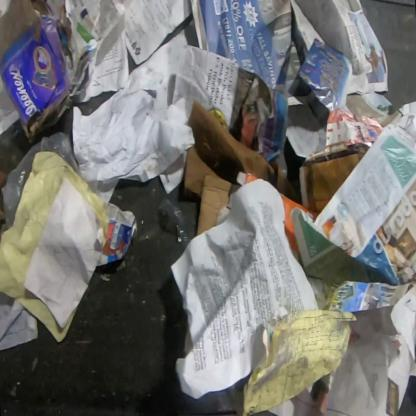cardboard: (183, 101, 302, 205), (299, 142, 371, 215), (196, 174, 233, 237)
metal: (97, 203, 138, 266)
soft_plastic: (0, 0, 70, 150), (0, 131, 79, 231), (160, 198, 190, 252)
